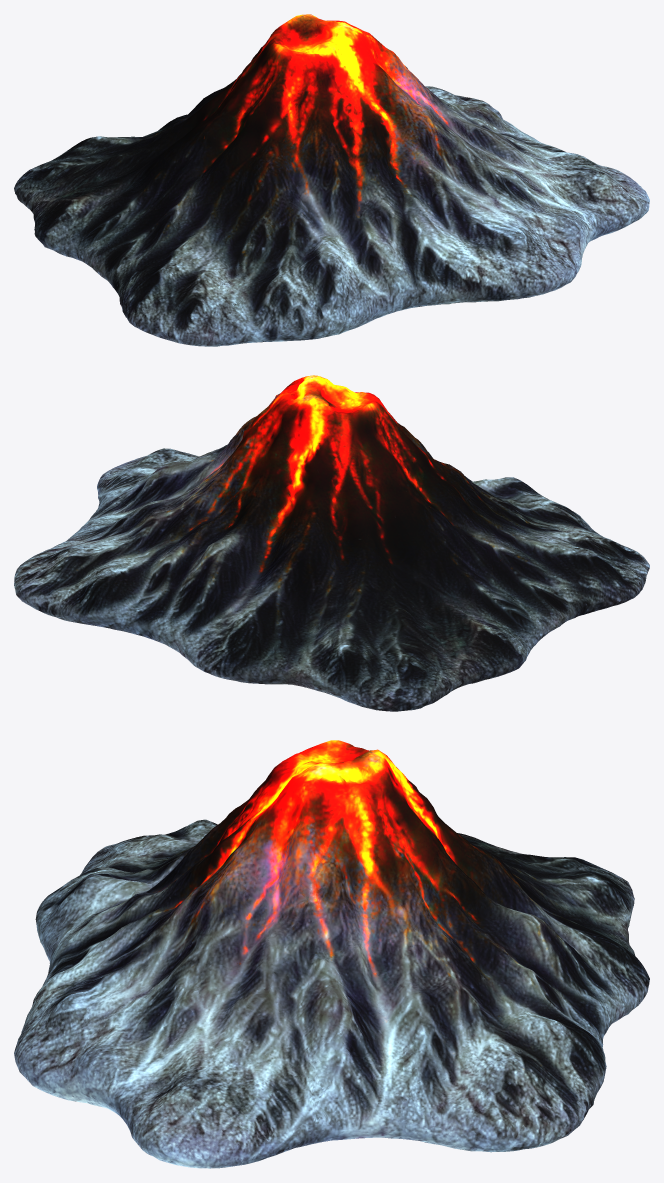
Rendered from vulcao_em_erupcao_-_erupting_volcano.glb.
3 renders of one model, top to bottom at view 1: azimuth 30°, elevation 25°; view 2: azimuth 150°, elevation 25°; view 3: azimuth 270°, elevation 25°, orthographic. The views are drawn at different scales.
Visible parts, largest first — view 1: mesh_obj; view 2: mesh_obj; view 3: mesh_obj.
Boxes of the visible parts, <box> form: mesh_obj: <box>14,14,649,346</box>; mesh_obj: <box>14,375,649,711</box>; mesh_obj: <box>14,740,649,1168</box>.
Bounding box in the file's own units: 0.7602 × 0.2921 × 0.6392.
Materials: 1 (1 with a texture image).
